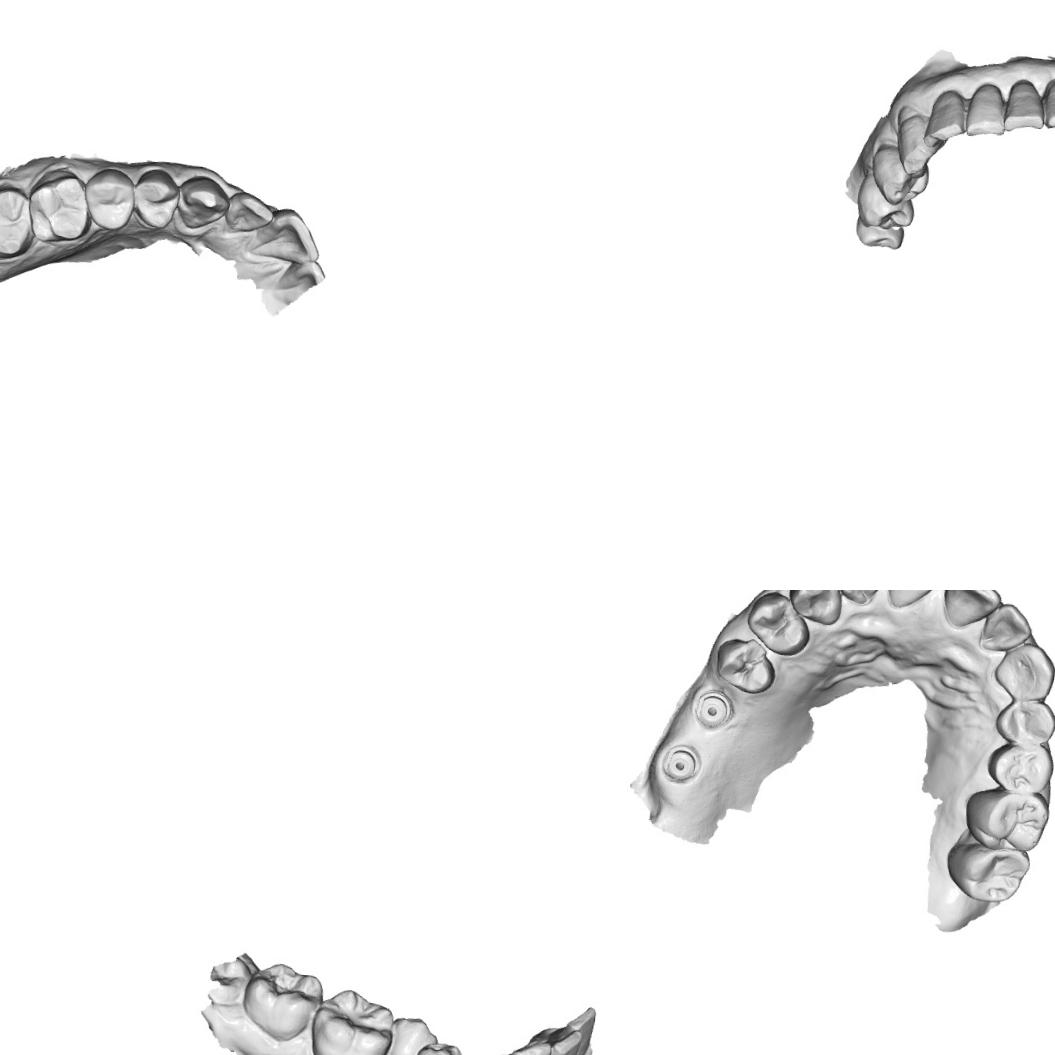canine: (890, 104, 950, 179), (990, 637, 1055, 706), (173, 172, 232, 232), (785, 590, 847, 627)
implant: (660, 741, 705, 785), (691, 688, 732, 730)
incisor: (246, 204, 323, 266), (975, 599, 1036, 656), (937, 590, 1005, 634), (1001, 76, 1048, 136), (962, 80, 1008, 139), (922, 86, 968, 144), (222, 187, 275, 235), (562, 1002, 597, 1055), (881, 590, 947, 613), (545, 1027, 583, 1055), (1037, 75, 1055, 133), (831, 590, 889, 608), (505, 1038, 551, 1055)
molar: (941, 834, 1036, 908), (238, 959, 319, 1043), (308, 985, 399, 1055), (960, 784, 1051, 854), (22, 166, 96, 246), (0, 182, 38, 261), (853, 214, 906, 251)
premolar: (743, 590, 814, 658), (866, 142, 932, 208), (710, 634, 780, 696), (983, 738, 1055, 798), (80, 164, 137, 232), (854, 172, 916, 232), (990, 694, 1055, 748), (130, 166, 182, 231), (383, 1013, 443, 1055), (407, 1034, 464, 1055)
